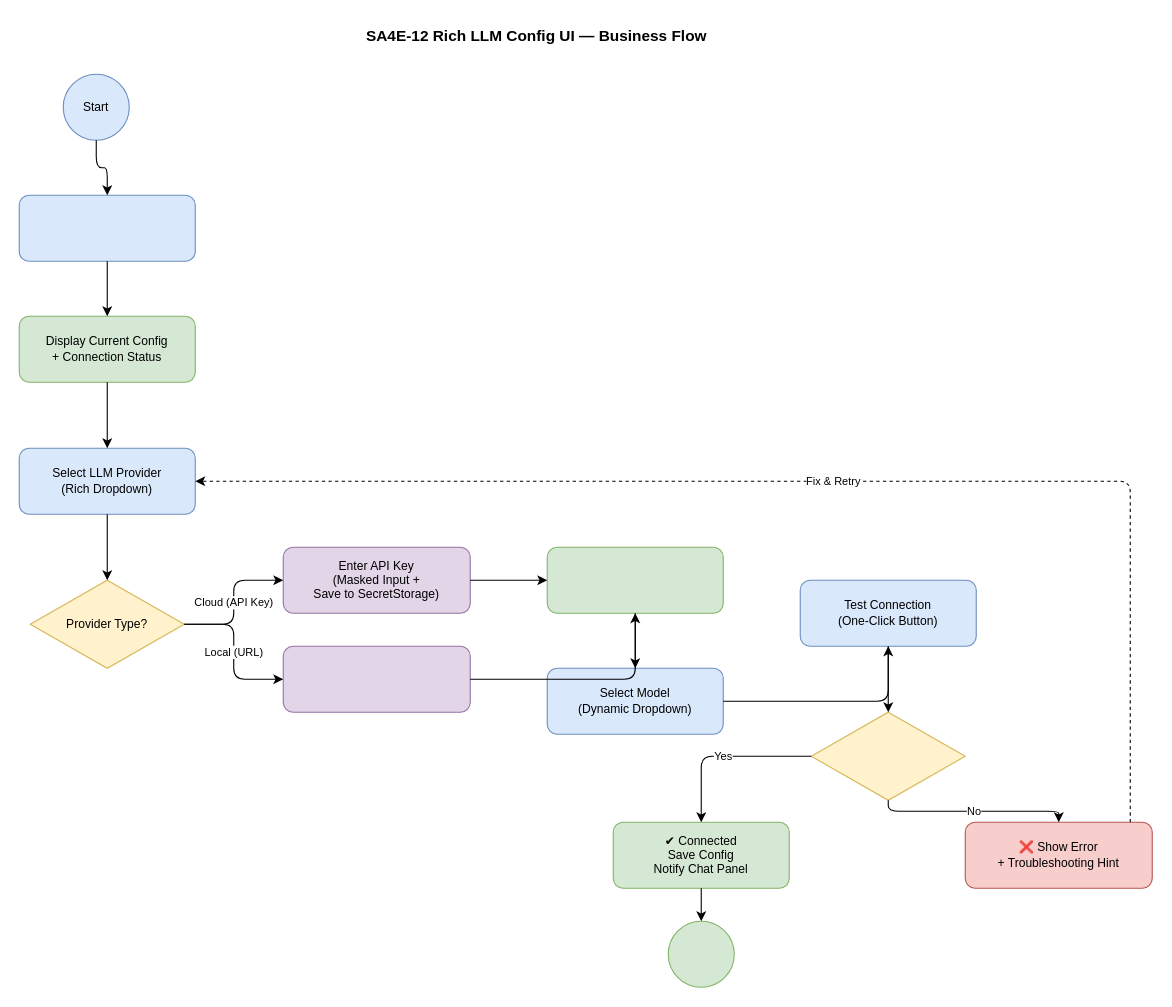
This 1172x1007 diagram has some shape labels left out. The shapes that lost their labels are listed below. From the top down, each one's centre as x and y in pixels, then its label:
point (106, 227): Developer Opens Settings Panel
point (634, 579): Fetch Model List (Gateway API / Static Fallback)
point (376, 678): Enter Server URL (Ollama / LM Studio)
point (887, 755): Connection OK?
point (700, 953): End
